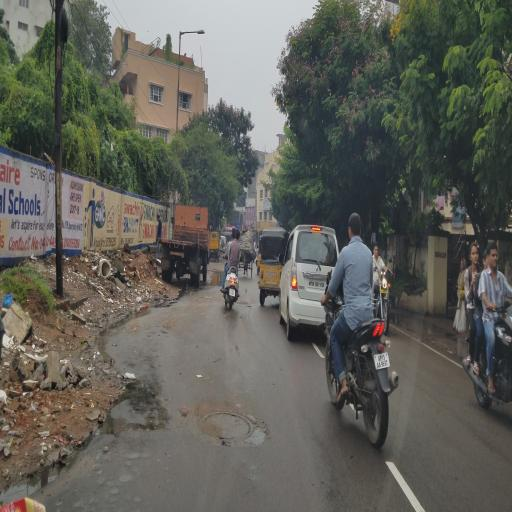street_light_0: (178, 20, 206, 44)
